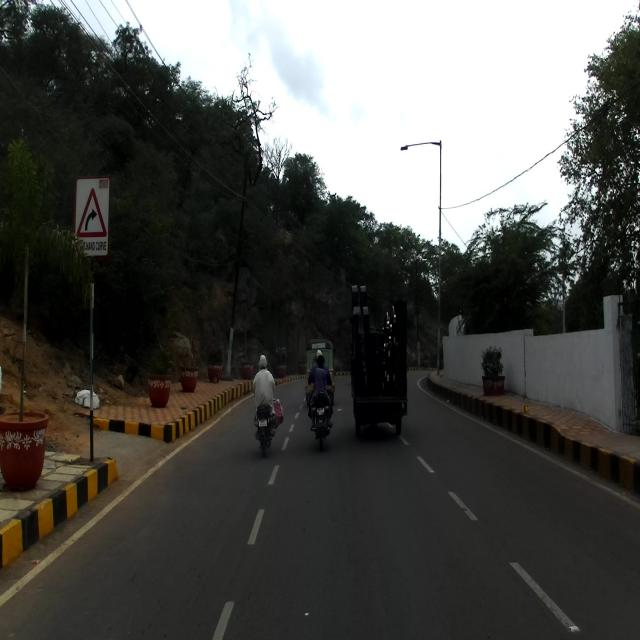autorickshaw: (350, 282, 409, 441)
motorcycle: (308, 378, 335, 450)
motorcycle_TVS: (252, 392, 284, 458)
